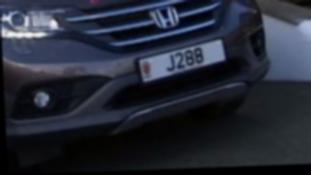License_Plate: (131, 35, 233, 85)
